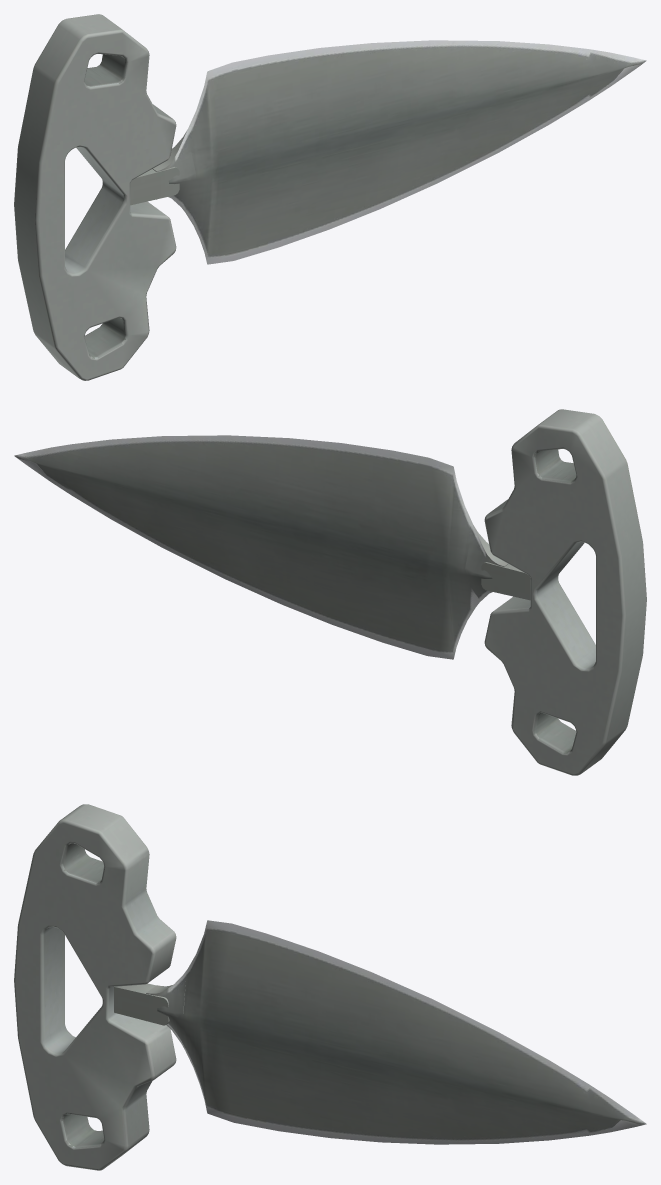
The model's file is shadow_daggers_lod1.glb.
The picture shows the model from 3 angles, top to bottom: view 1: azimuth 30°, elevation 25°; view 2: azimuth 150°, elevation 25°; view 3: azimuth 330°, elevation 25°; orthographic projection.
Visible parts, largest first — view 1: body; view 2: body; view 3: body.
Boxes of the visible parts, x1,y1,x2,y2 form: body: (14,14,646,380); body: (14,409,646,775); body: (14,804,646,1170).
Size of the model in its own units: 0.1288 by 0.0686 by 0.00851.
Materials: 3 (3 with a texture image).
